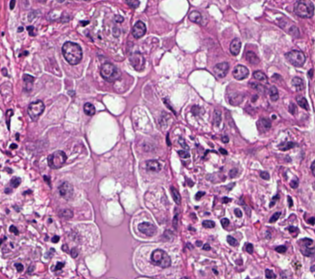nucleus: (62, 41, 81, 64), (100, 63, 119, 81), (151, 249, 170, 267), (48, 150, 66, 168), (285, 50, 305, 66), (28, 100, 44, 120), (129, 52, 144, 70), (58, 181, 72, 198), (138, 222, 156, 235), (300, 238, 313, 256), (213, 62, 228, 77), (232, 65, 248, 79), (245, 51, 259, 64), (170, 186, 180, 204), (230, 38, 240, 55), (253, 70, 267, 82), (228, 92, 242, 104), (296, 96, 308, 109), (258, 118, 270, 131), (146, 160, 160, 171), (292, 77, 303, 90), (83, 103, 94, 115), (178, 137, 188, 150), (249, 83, 263, 92), (269, 86, 278, 100), (279, 142, 294, 150), (59, 209, 72, 218), (269, 212, 280, 222), (213, 110, 220, 125), (227, 236, 237, 245), (265, 269, 275, 278), (270, 195, 278, 206), (202, 220, 214, 227), (192, 105, 201, 114), (53, 262, 63, 270), (178, 150, 189, 157), (288, 226, 298, 233), (245, 243, 252, 253), (275, 246, 286, 252), (229, 168, 237, 176), (221, 218, 229, 226), (260, 172, 269, 179), (195, 192, 204, 199), (70, 248, 77, 257), (290, 179, 297, 187), (234, 209, 241, 217), (51, 235, 59, 242), (173, 215, 177, 227), (289, 104, 294, 113), (219, 148, 226, 154), (308, 217, 314, 224), (311, 161, 314, 174), (222, 136, 228, 142), (288, 197, 292, 206), (309, 69, 313, 77), (44, 176, 49, 182), (203, 244, 209, 249), (223, 198, 230, 202), (167, 134, 169, 145), (197, 241, 201, 245)
